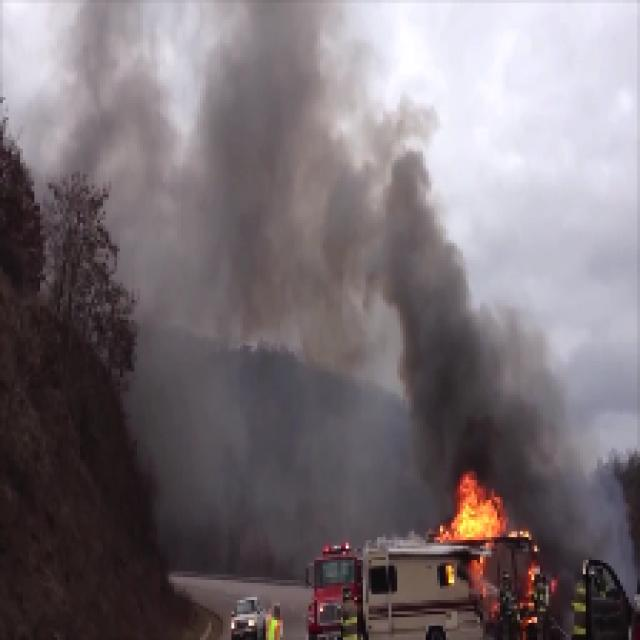smoke: (70, 3, 386, 377), (400, 170, 473, 466), (488, 310, 572, 476)
